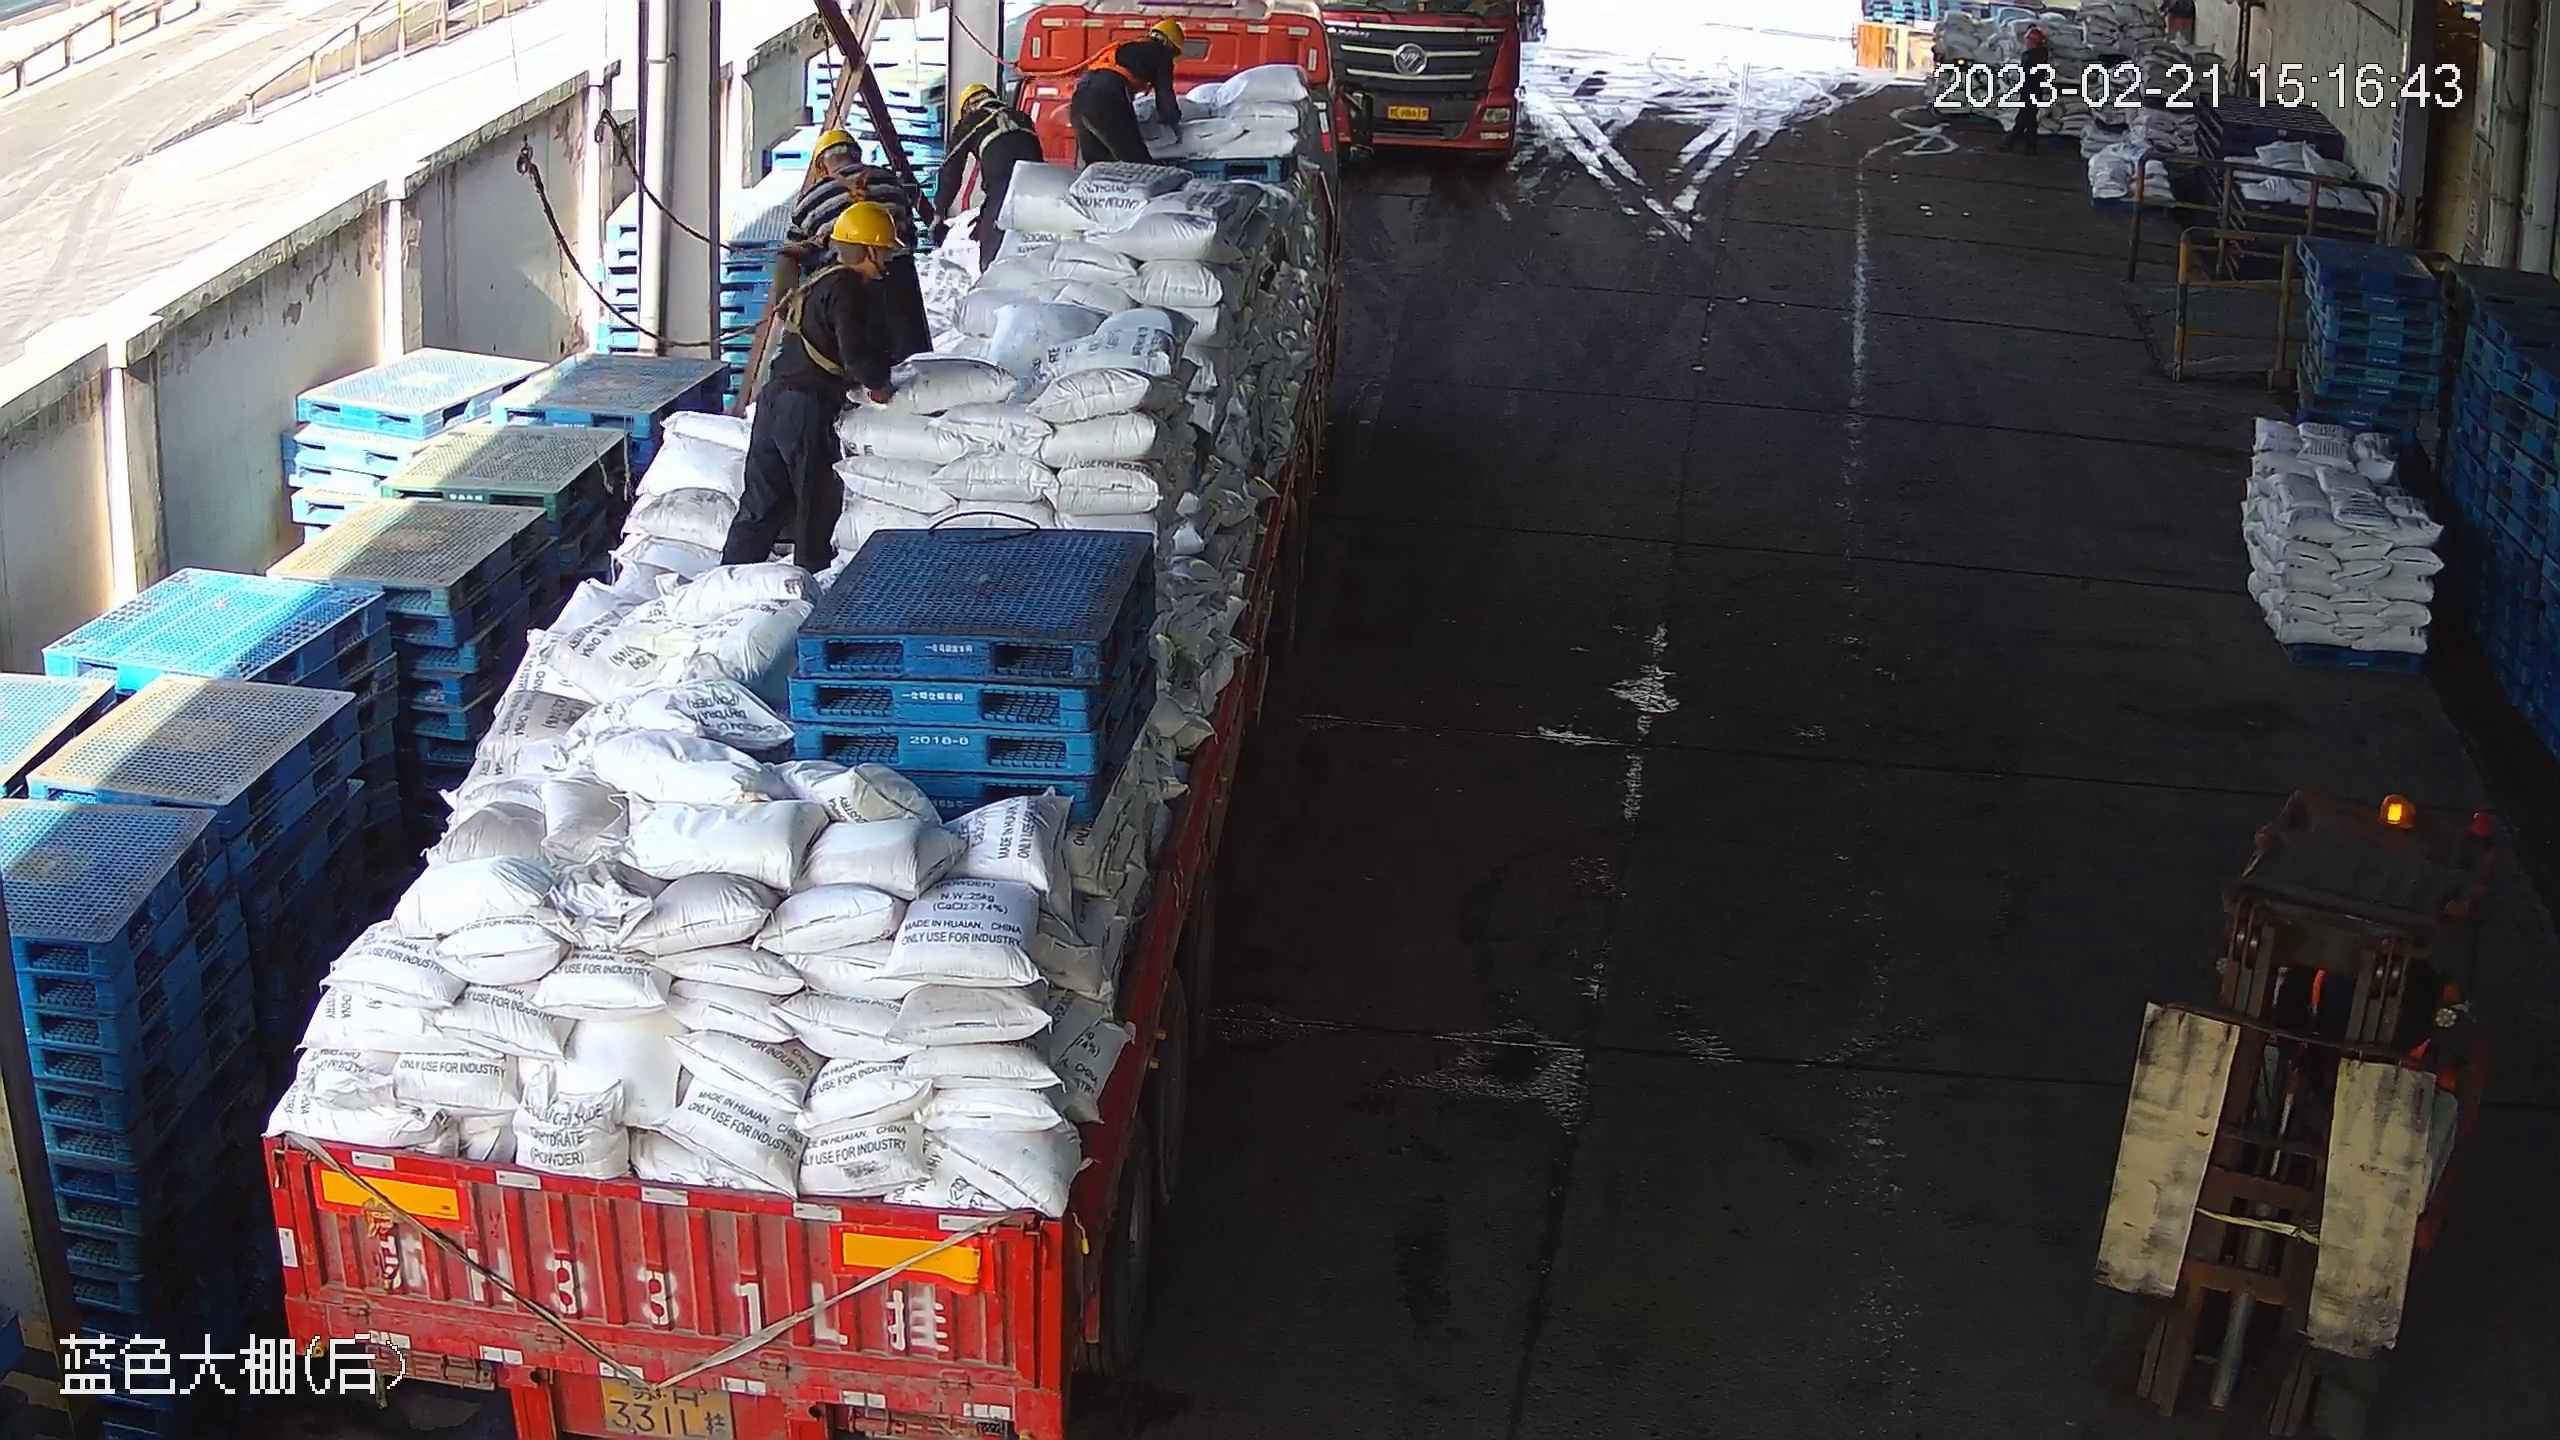belt: (772, 270, 866, 368), (1096, 31, 1144, 88), (973, 105, 1016, 153)
head: (786, 207, 903, 368), (1099, 1, 1194, 70), (805, 131, 896, 192), (948, 82, 1025, 153)
helmet: (832, 203, 895, 249), (1146, 14, 1190, 55), (949, 75, 1003, 108), (812, 129, 857, 162)
people: (727, 199, 905, 588)
truck: (255, 10, 1336, 1440), (1316, 10, 1548, 179)
